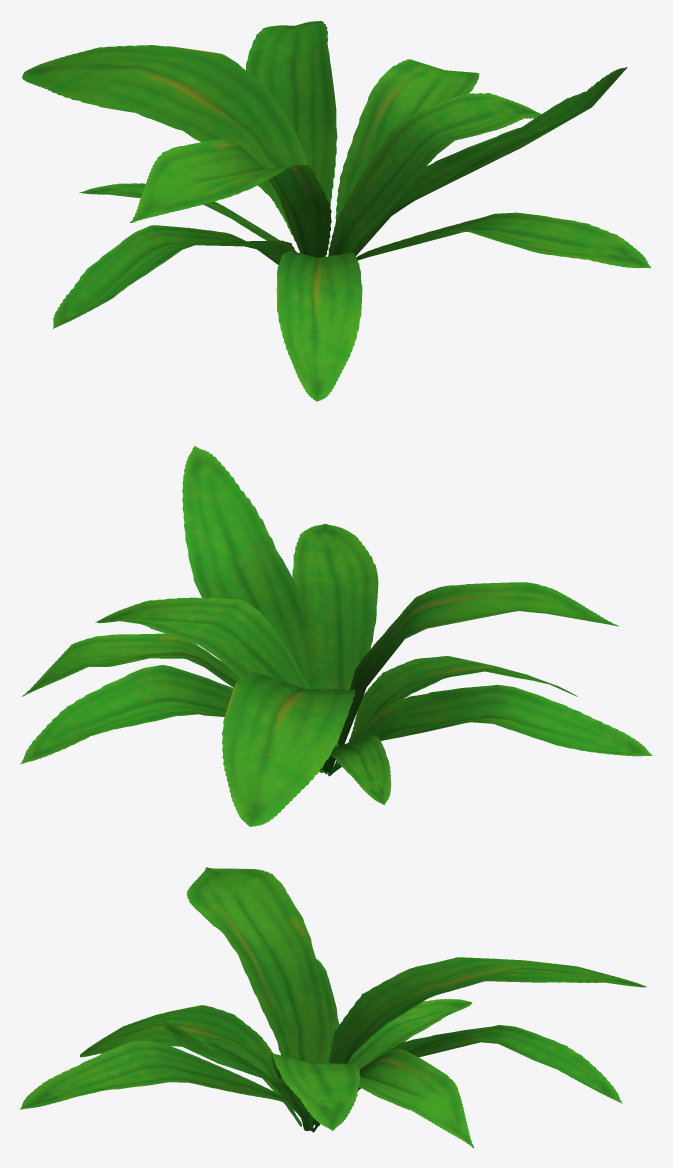
Rendered from berry-4.glb.
3 views of the same model, one above another, from view 1: azimuth 30°, elevation 25°; view 2: azimuth 150°, elevation 25°; view 3: azimuth 270°, elevation 25° (orthographic). The views are drawn at different scales.
Parts seen in each view (by area): view 1: Plant_var_3_Berry_plant_0; view 2: Plant_var_3_Berry_plant_0; view 3: Plant_var_3_Berry_plant_0.
Boxes of the visible parts, x1=… form: Plant_var_3_Berry_plant_0: x1=22, y1=21, x2=650, y2=401; Plant_var_3_Berry_plant_0: x1=20, y1=445, x2=652, y2=826; Plant_var_3_Berry_plant_0: x1=20, y1=867, x2=646, y2=1148.
Bounding box in the file's own units: 0.9153 × 0.3936 × 1.04.
Materials: 1 (1 with a texture image).
